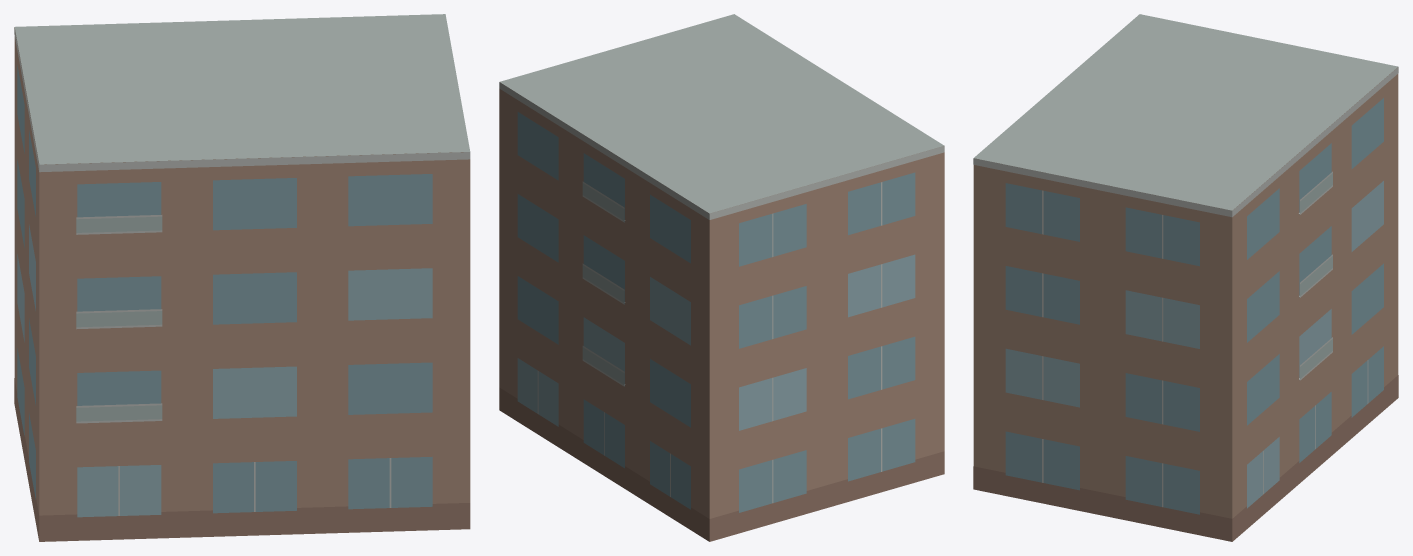
The model's file is survey-upis-32998081.glb.
3 views of the same model, side by side, from view 1: azimuth 30°, elevation 25°; view 2: azimuth 150°, elevation 25°; view 3: azimuth 270°, elevation 25° (orthographic). The views are drawn at different scales.
Parts seen in each view (by area): view 1: survey-upis-32998081.tmp; view 2: survey-upis-32998081.tmp; view 3: survey-upis-32998081.tmp.
Part boxes in pixels (x1,y1,x2,y2): survey-upis-32998081.tmp: [14, 14, 470, 541]; survey-upis-32998081.tmp: [499, 14, 944, 541]; survey-upis-32998081.tmp: [973, 14, 1398, 541].
Bounding box in the file's own units: 15.44 × 12.12 × 14.1.
